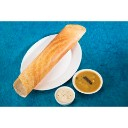dosa: (9, 24, 87, 96)
